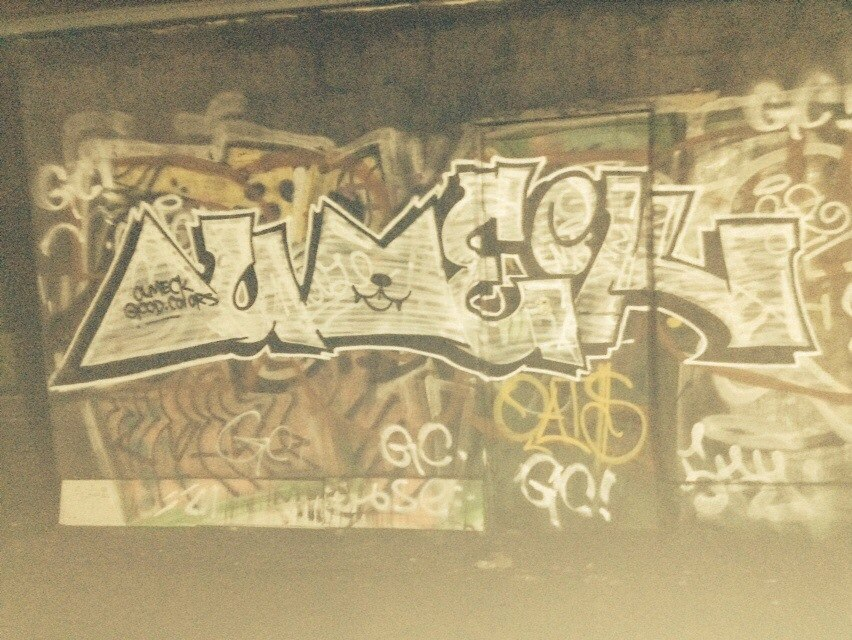graffity: (51, 148, 819, 393), (473, 361, 660, 467), (513, 453, 619, 528), (377, 412, 465, 471)
